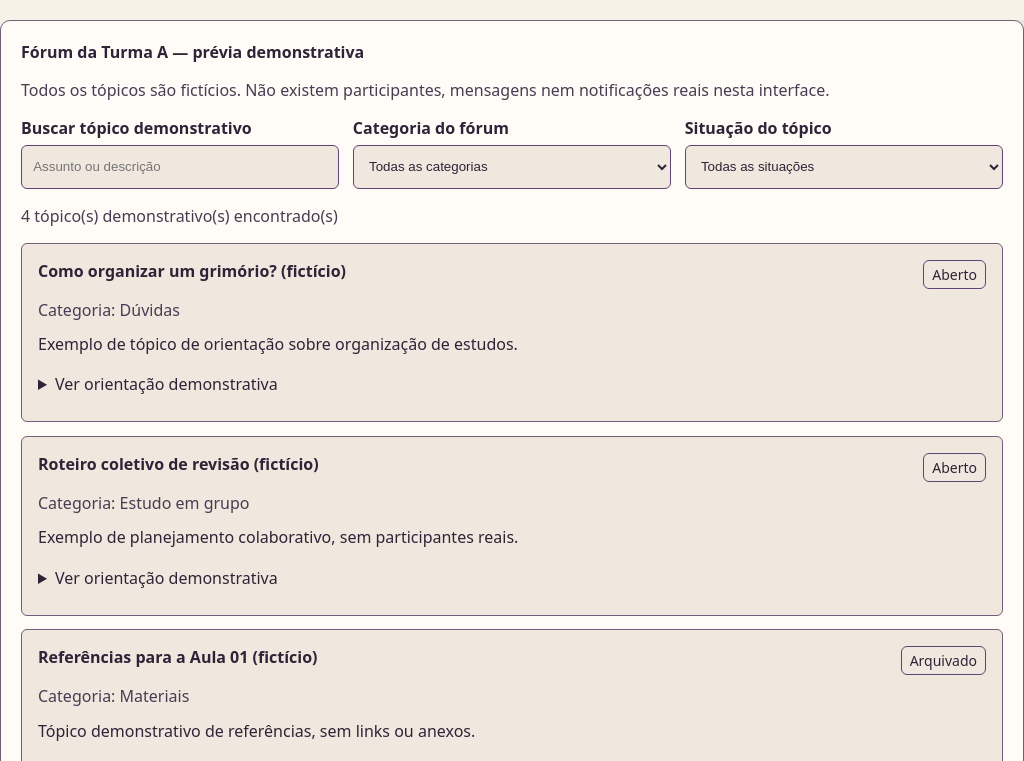
Test case: Professor → Turma A → Fórum (prévia) › combines category and status filters, including an accessible empty state
This screenshot has width=1024, height=761.
Step 1. Select "Dúvidas" in the dropdown labelled "Categoria do fórum" → (512, 167), box [353,145,671,189]
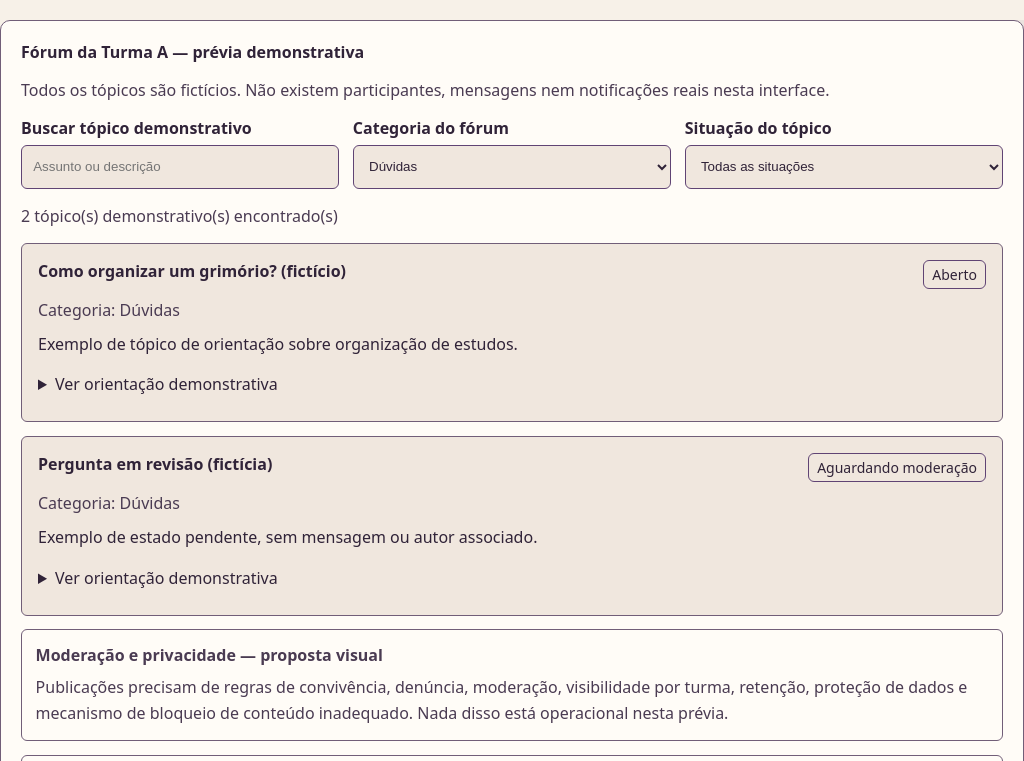
Expected: the text "2 tópico(s) demonstrativo(s) encontrado(s)" is shown, [21,205,338,227]
Step 2. Select "Arquivado" in the dropdown labelled "Situação do tópico" → (844, 167), box [685,145,1003,189]
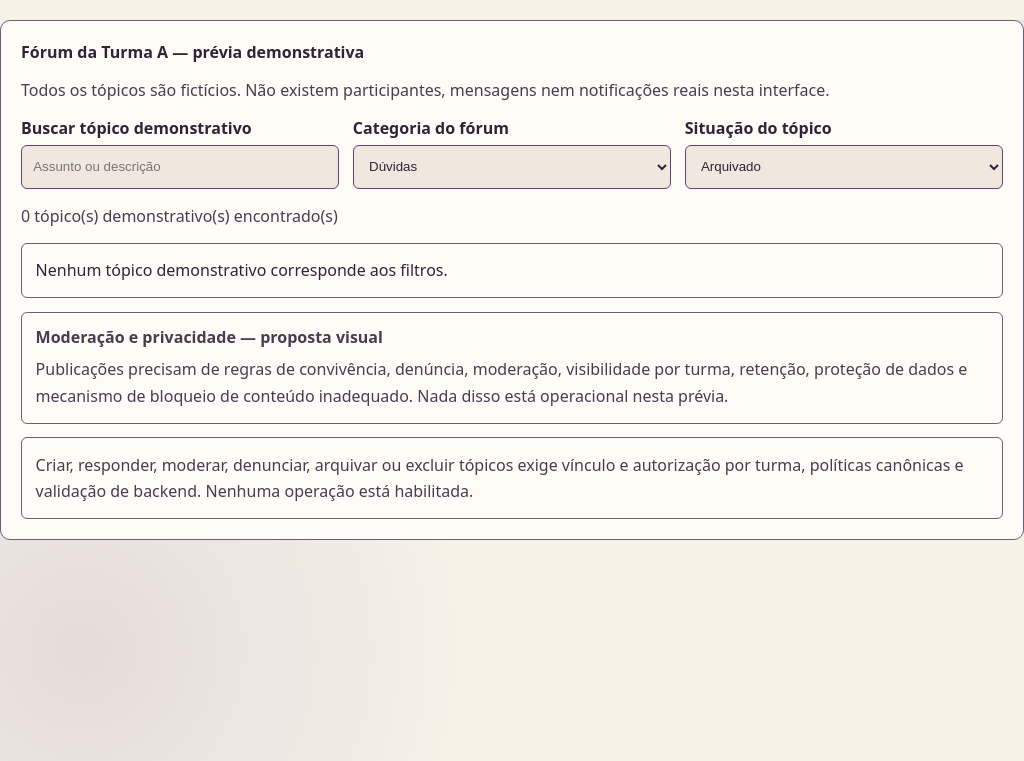
Expected: the text "0 tópico(s) demonstrativo(s) encontrado(s)" is shown, [21,205,338,227]
Expected: the text "Nenhum tópico demonstrativo corresponde aos filtros." is shown, [21,242,1003,298]
